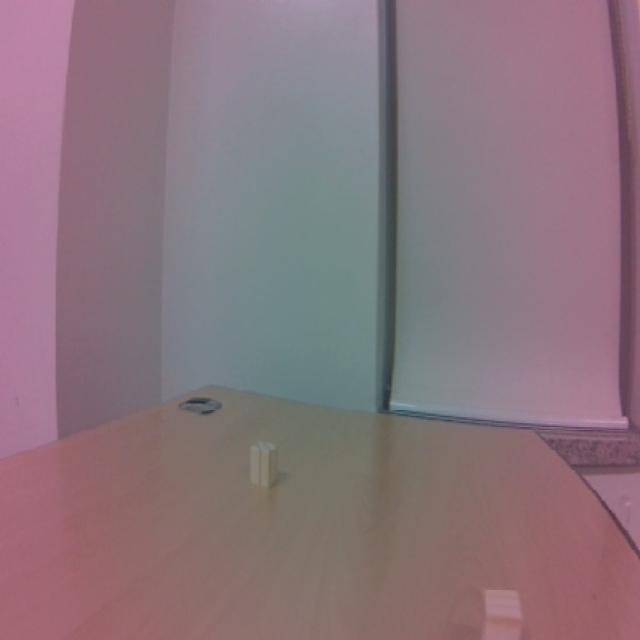obstacle: (241, 434, 285, 492)
